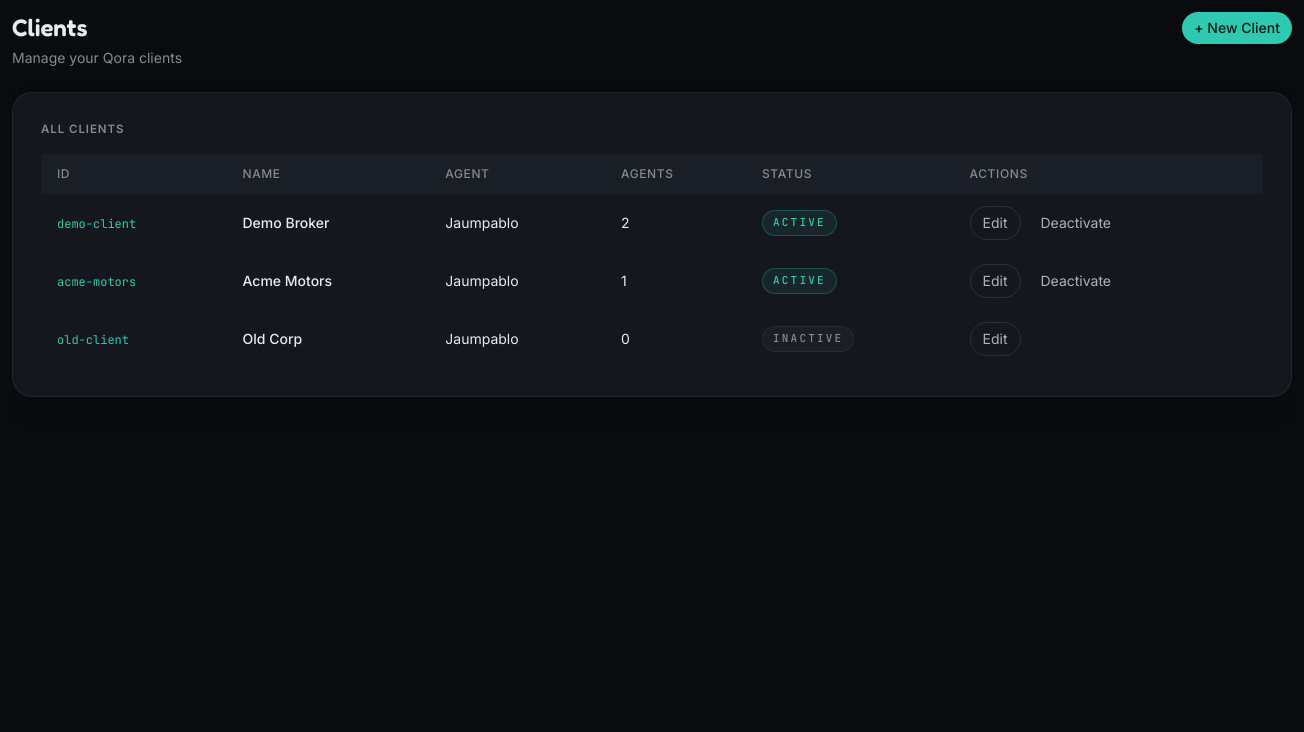
Test: AdminClientsListPage › clicking + New Client button shows the create form
Click the button "+ New Client".
click(1237, 28)  # box [1182, 12, 1292, 44]
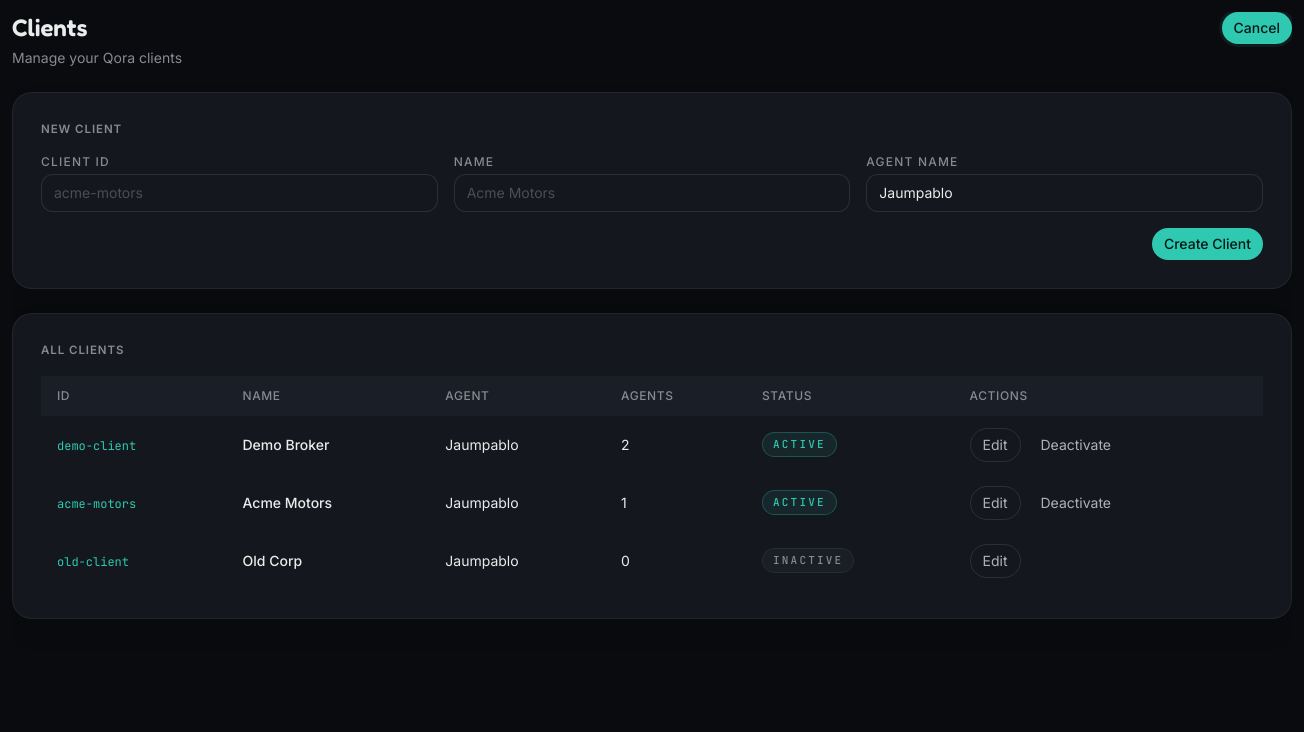
Expected: the text "New Client" is shown, [41, 121, 122, 138]
Expected: the field labelled "Client ID" is shown, [41, 174, 438, 212]
